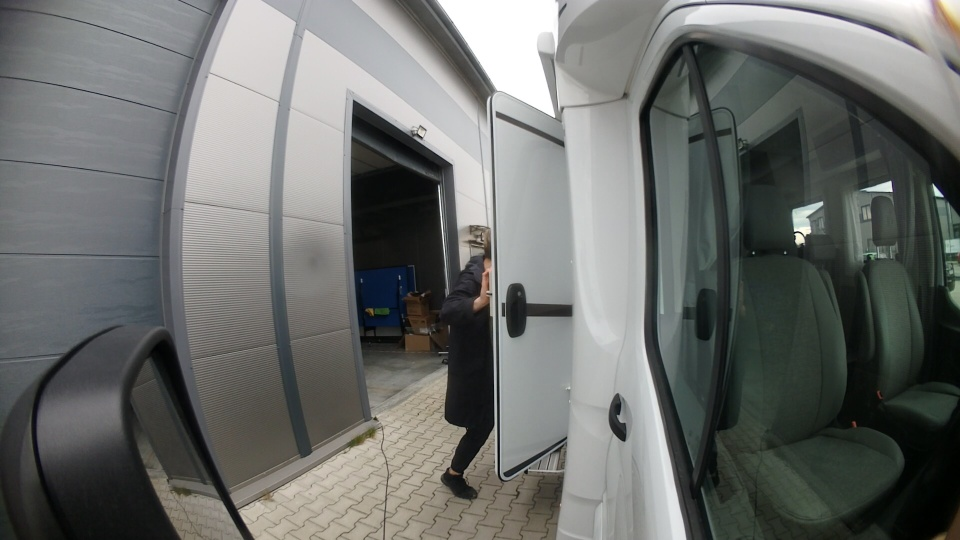door_front: (478, 86, 585, 484)
step_front: (518, 438, 578, 481)
